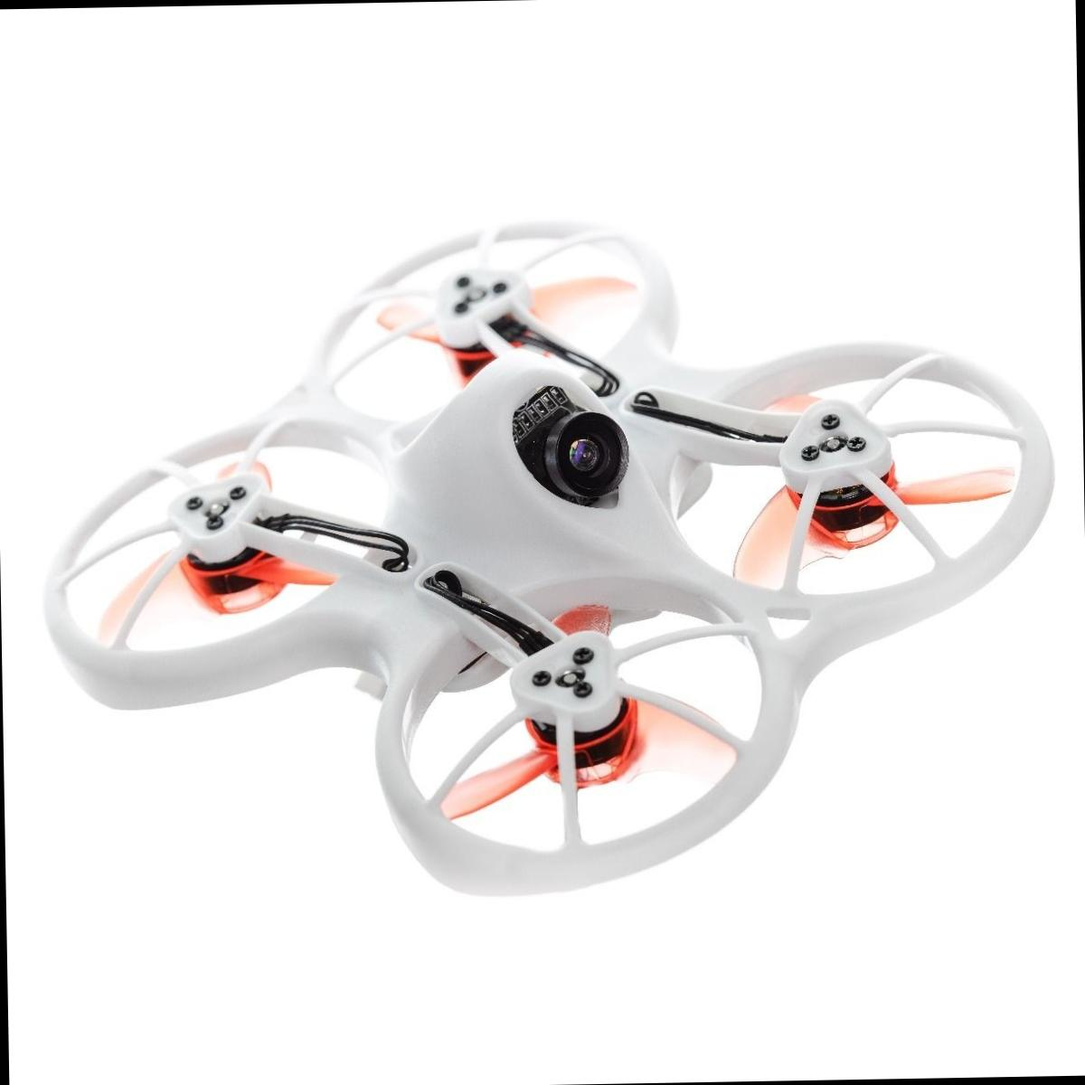drone: (60, 189, 1078, 859)
